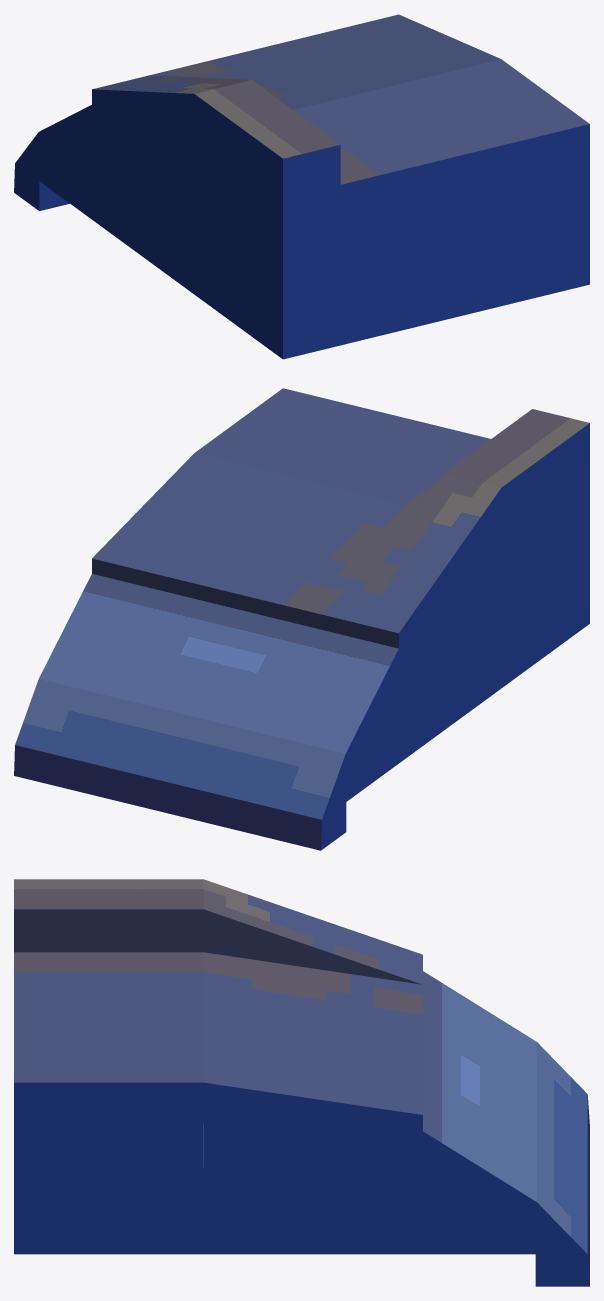
File: df21_dynamic_transition_carport.obj
The picture shows the model from 3 angles, top to bottom: view 1: azimuth 30°, elevation 25°; view 2: azimuth 150°, elevation 25°; view 3: azimuth 270°, elevation 25°; orthographic projection. The views are drawn at different scales.
Visible parts, largest first — view 1: cuboid_selection_selection_selection_selection_selection; view 2: cuboid_selection_selection_selection_selection_selection; view 3: cuboid_selection_selection_selection_selection_selection.
Boxes of the visible parts, x1,y1,x2,y2 form: cuboid_selection_selection_selection_selection_selection: (14,14,589,359); cuboid_selection_selection_selection_selection_selection: (14,388,589,850); cuboid_selection_selection_selection_selection_selection: (14,879,589,1286).
Bounding box in the file's own units: 1 × 0.7188 × 1.52.
